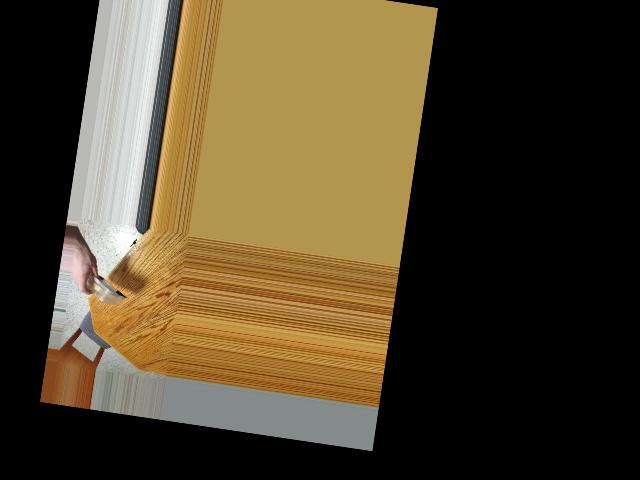cheese: (81, 273, 127, 307)
